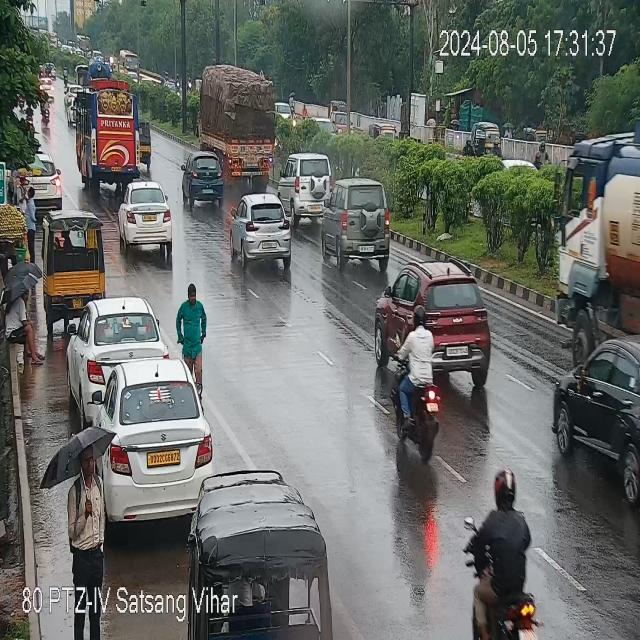2-wheelers: (462, 484, 542, 640), (390, 304, 436, 464), (536, 138, 548, 168), (42, 92, 49, 124)
auto: (243, 464, 339, 640), (41, 210, 106, 316), (473, 121, 498, 157), (139, 119, 153, 168), (368, 122, 397, 141)
bus: (75, 81, 133, 191)
car: (93, 363, 211, 525), (383, 258, 498, 380), (541, 338, 639, 477), (69, 297, 168, 407), (324, 180, 392, 274), (232, 192, 296, 268), (117, 179, 173, 259), (284, 153, 322, 223), (182, 156, 224, 208), (34, 151, 65, 209), (15, 174, 26, 202)
pedestrian: (79, 444, 103, 580), (7, 285, 44, 371), (176, 286, 208, 376), (26, 187, 37, 260)
truck: (564, 161, 636, 337)
